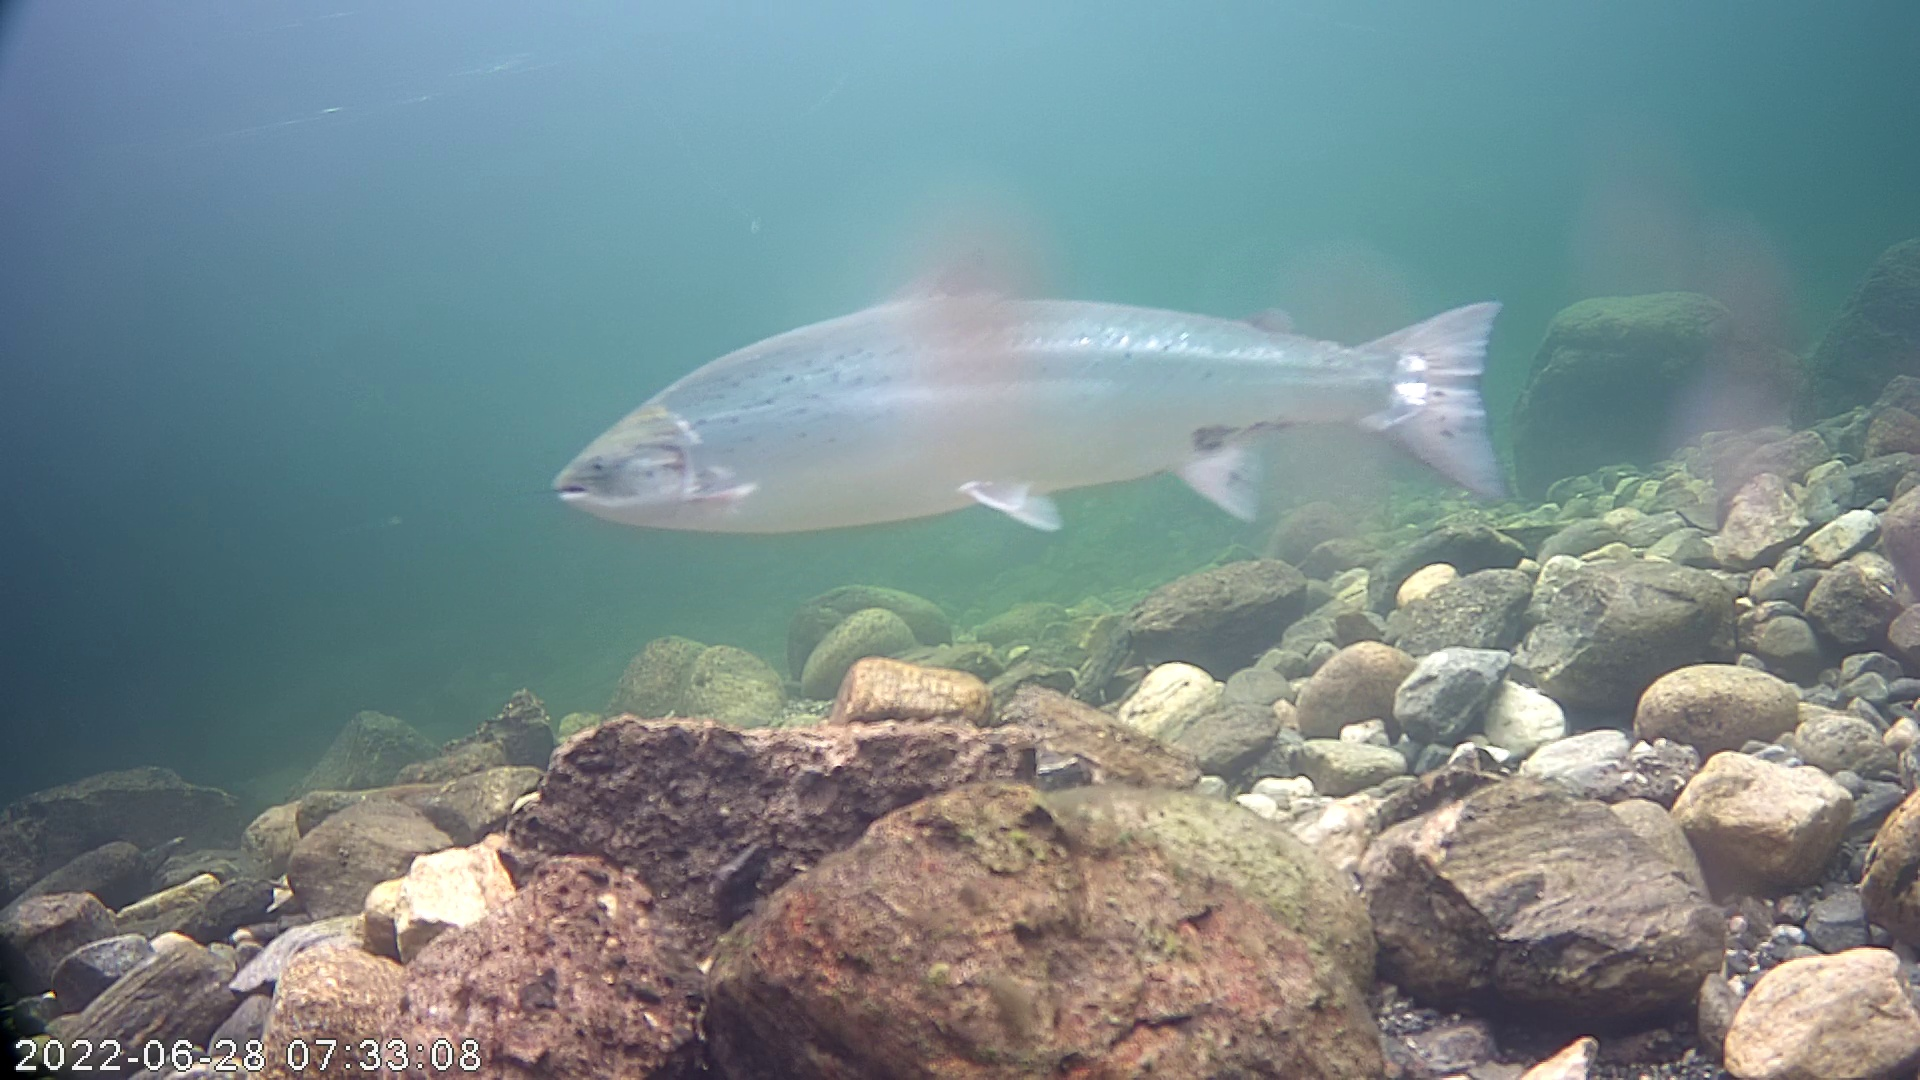salmon: (535, 135, 1542, 607)
